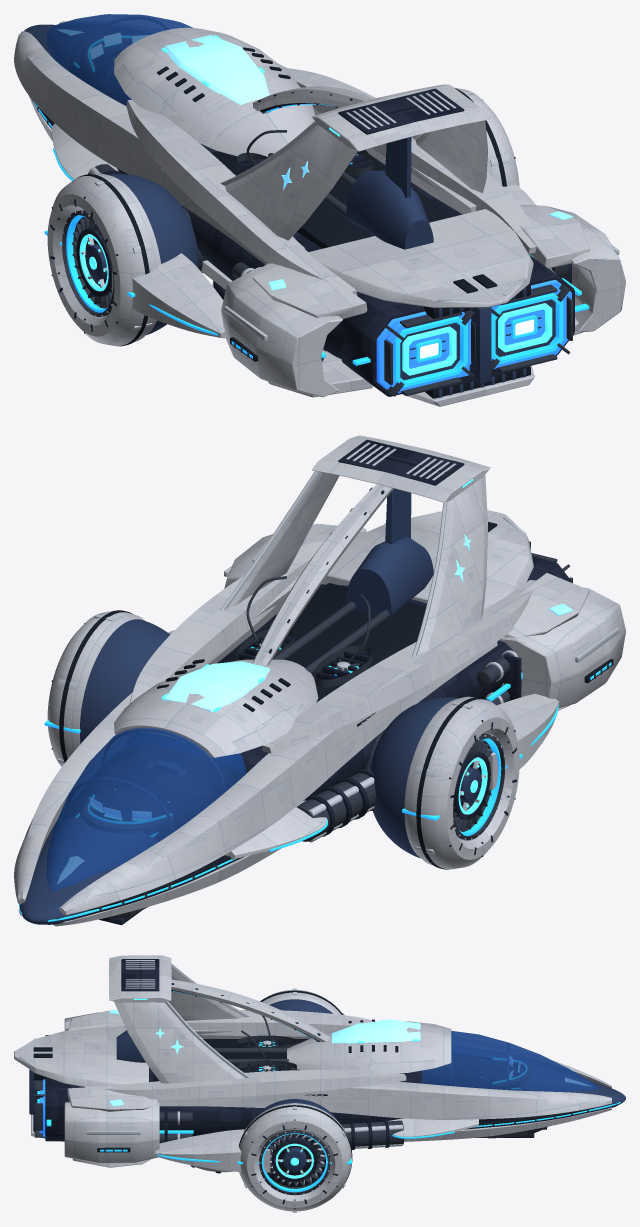
File: kimicode_cruiser.glb
The picture shows the model from 3 angles, top to bottom: view 1: azimuth 30°, elevation 25°; view 2: azimuth 150°, elevation 25°; view 3: azimuth 270°, elevation 25°; orthographic projection. The views are drawn at different scales.
Parts seen in each view (by area): view 1: Armor_SternDorsalTailHood, Armor_DorsalCanopyHood, GravPod_OuterPearlShroud_Port, Armor_UpperBowCheekShell_Port, Armor_DorsalShoulderFlank_Port, Armor_AftOutboardCowl_Port, Dorsal_SweptFin_Port, Cockpit_SapphireCanopyGlass, GravPod_AftBoomFairing_Port, Dorsal_RearSpineDome, Chassis_MainNavyCore, Armor_DorsalShoulderFlank_Stbd (+35 smaller); view 2: Cockpit_SapphireCanopyGlass, Armor_UpperBowCheekShell_Port, Chassis_MainNavyCore, GravPod_OuterPearlShroud_Port, Armor_DorsalCanopyHood, Armor_DorsalShoulderFlank_Port, Armor_AftOutboardCowl_Port, Dorsal_SweptFin_Port, Chassis_ObsidianSapphireProw, Armor_DorsalShoulderFlank_Stbd, Armor_SternDorsalTailHood, DorsalBay_RecessFloor (+29 smaller); view 3: Armor_UpperBowCheekShell_Stbd, Cockpit_SapphireCanopyGlass, GravPod_OuterPearlShroud_Stbd, Dorsal_SweptFin_Stbd, Armor_SternDorsalTailHood, Armor_DorsalShoulderFlank_Stbd, Armor_DorsalCanopyHood, Chassis_MainNavyCore, Armor_AftOutboardCowl_Stbd, Armor_DorsalShoulderFlank_Port, GravPod_AftBoomFairing_Stbd, Dorsal_CentralSpineArch (+26 smaller).
Part boxes in pixels (<box>): Armor_SternDorsalTailHood: <box>308,209,533,307</box>; Armor_DorsalCanopyHood: <box>114,27,315,156</box>; GravPod_OuterPearlShroud_Port: <box>47,173,160,346</box>; Armor_UpperBowCheekShell_Port: <box>14,31,304,264</box>; Armor_DorsalShoulderFlank_Port: <box>126,100,357,295</box>; Armor_AftOutboardCowl_Port: <box>221,267,342,397</box>; Dorsal_SweptFin_Port: <box>225,124,357,240</box>; Cockpit_SapphireCanopyGlass: <box>46,14,192,105</box>; GravPod_AftBoomFairing_Port: <box>112,253,226,338</box>; Dorsal_RearSpineDome: <box>346,170,433,249</box>; Chassis_MainNavyCore: <box>70,49,462,358</box>; Armor_DorsalShoulderFlank_Stbd: <box>283,67,536,253</box>; Cockpit_SapphireCanopyGlass: <box>46,727,246,891</box>; Armor_UpperBowCheekShell_Port: <box>59,642,497,915</box>; Chassis_MainNavyCore: <box>62,584,511,841</box>; GravPod_OuterPearlShroud_Port: <box>404,696,519,869</box>; Armor_DorsalCanopyHood: <box>114,659,318,757</box>; Armor_DorsalShoulderFlank_Port: <box>262,580,535,753</box>; Armor_AftOutboardCowl_Port: <box>501,587,625,707</box>; Dorsal_SweptFin_Port: <box>417,475,487,654</box>; Chassis_ObsidianSapphireProw: <box>19,818,157,924</box>; Armor_DorsalShoulderFlank_Stbd: <box>129,540,324,703</box>; Armor_SternDorsalTailHood: <box>321,510,533,609</box>; DorsalBay_RecessFloor: <box>219,583,425,702</box>; Armor_UpperBowCheekShell_Stbd: <box>158,1081,611,1119</box>; Cockpit_SapphireCanopyGlass: <box>422,1031,599,1092</box>; GravPod_OuterPearlShroud_Stbd: <box>239,1103,351,1211</box>; Dorsal_SweptFin_Stbd: <box>114,1001,244,1083</box>; Armor_SternDorsalTailHood: <box>14,1027,148,1086</box>; Armor_DorsalShoulderFlank_Stbd: <box>84,1069,406,1099</box>; Armor_DorsalCanopyHood: <box>287,1021,451,1074</box>; Chassis_MainNavyCore: <box>149,1052,519,1136</box>; Armor_AftOutboardCowl_Stbd: <box>64,1101,159,1163</box>; Armor_DorsalShoulderFlank_Port: <box>84,1010,375,1036</box>; GravPod_AftBoomFairing_Stbd: <box>155,1129,270,1172</box>; Dorsal_CentralSpineArch: <box>171,979,329,1041</box>.
Bounding box in the file's own units: 9.9 × 6.42 × 19.94.
14 materials, 3 textured.
